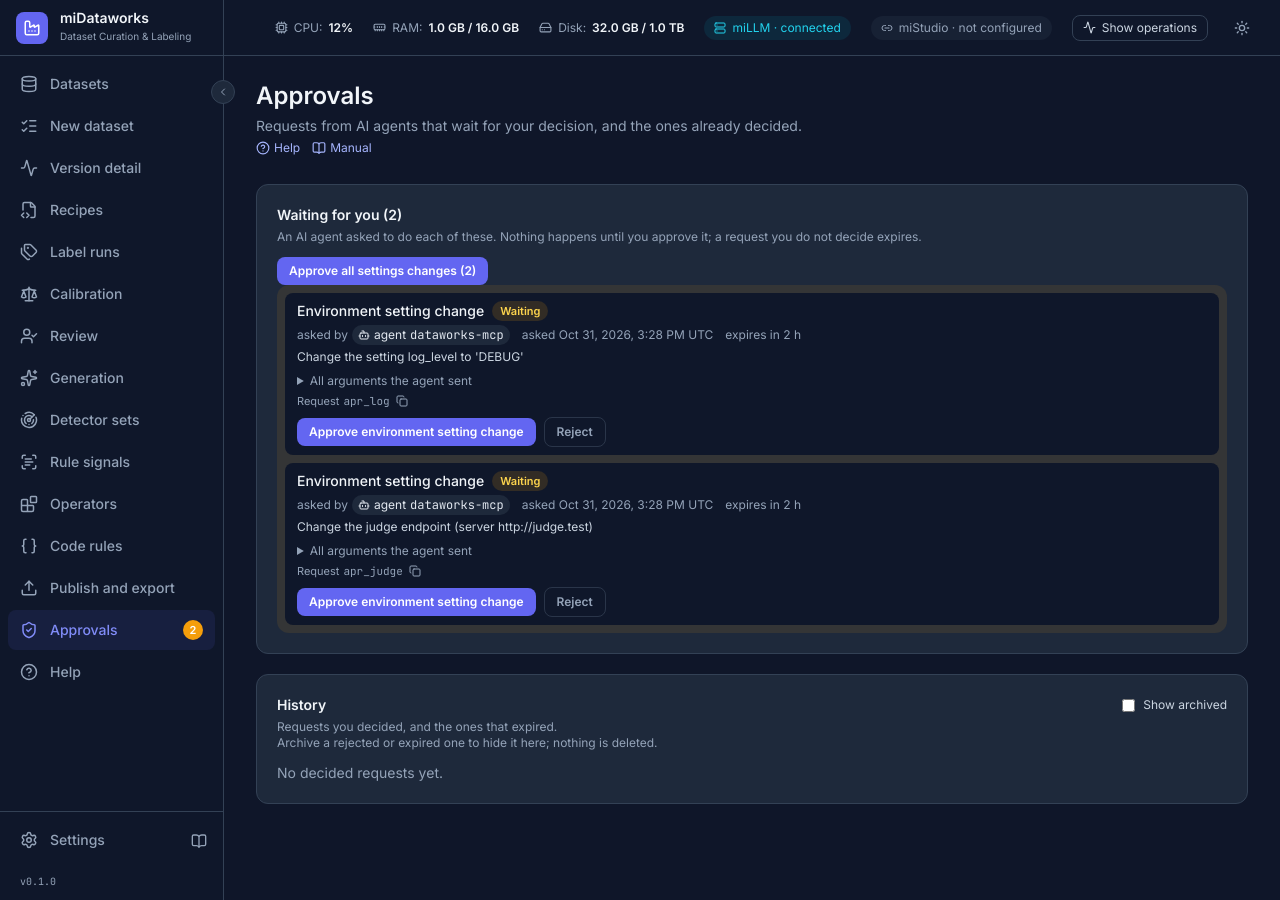
Test: the confirm › reports an item that failed while the others ran
Click the button with test id "approve-all-settings-button": [383, 271] box [277,257,488,285]
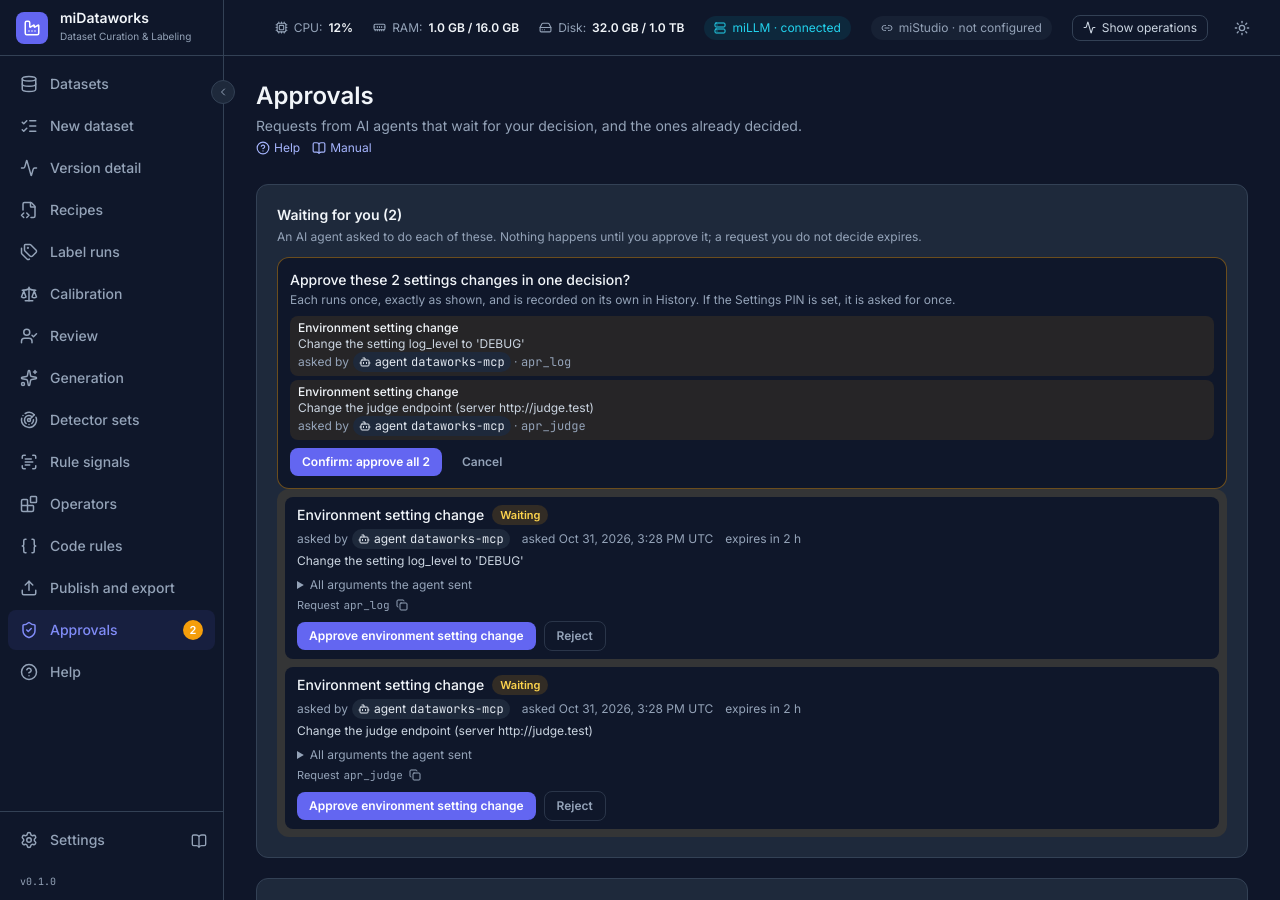
Click the button with test id "approve-all-settings-confirm-button": [366, 462] box [290,448,442,476]
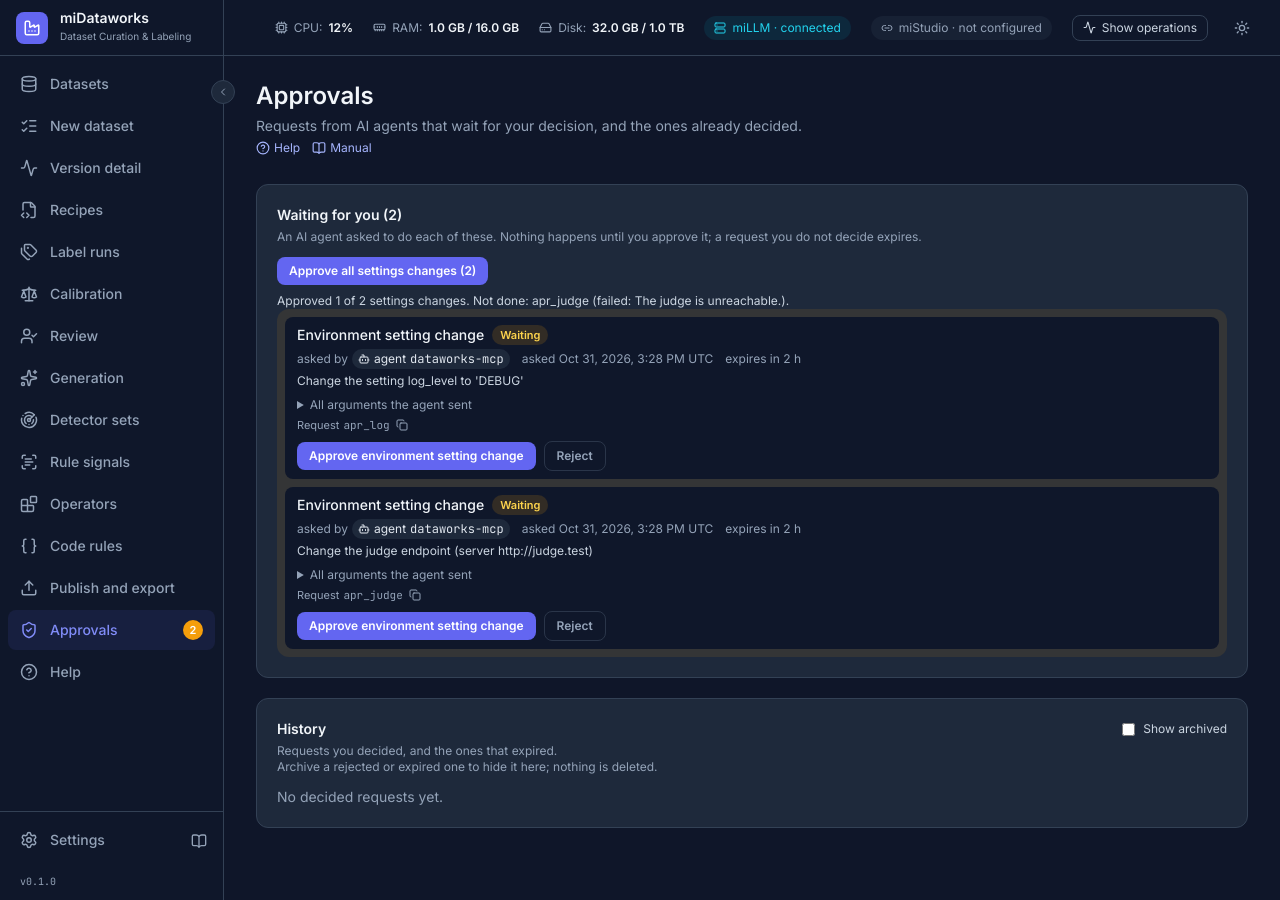
Now the message with test id "approve-all-settings-outcome" shows "Approved 1 of 2 settings changes. Not done: apr_judge (failed: The judge is unreachable.).", box [277,293,789,308]
